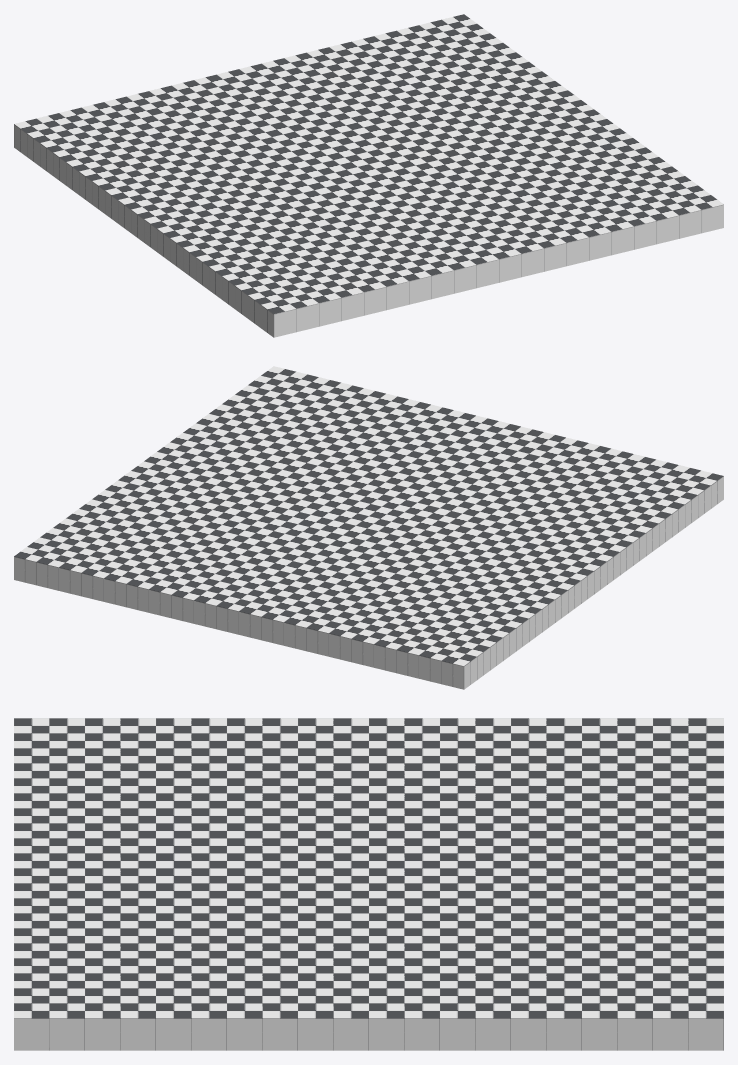
Rendered from tile_check.dae.
The picture shows the model from 3 angles, top to bottom: view 1: azimuth 30°, elevation 25°; view 2: azimuth 150°, elevation 25°; view 3: azimuth 270°, elevation 25°; orthographic projection. The views are drawn at different scales.
Parts seen in each view (by area): view 1: Cube; view 2: Cube; view 3: Cube.
Boxes of the visible parts, x1=… form: Cube: x1=14, y1=14, x2=723, y2=337; Cube: x1=14, y1=366, x2=723, y2=689; Cube: x1=14, y1=718, x2=723, y2=1050.
Bounding box in the file's own units: 40 × 40 × 2.
Materials: 1 (1 with a texture image).
